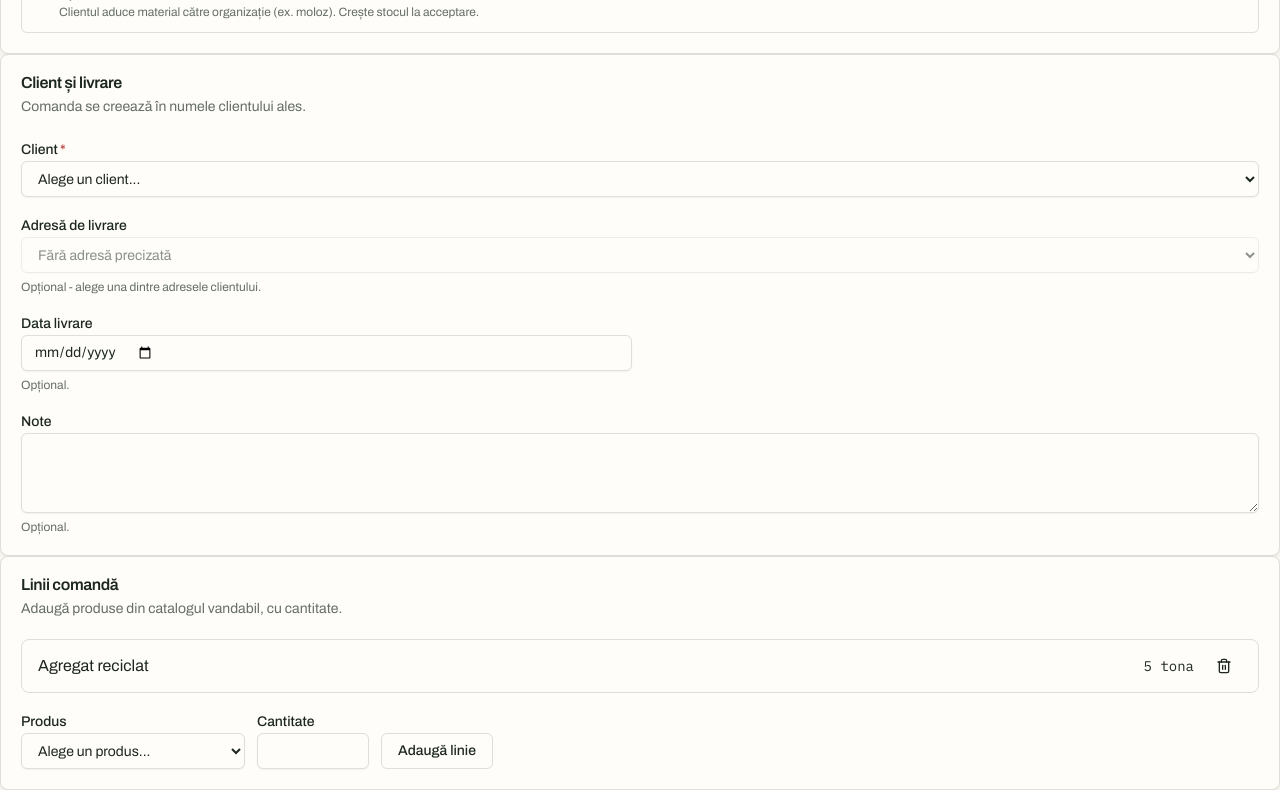
Test case: OrderEditor › șterge o linie existentă
The image size is (1280, 790).
(page scrolled)
Expected: the text "Agregat reciclat" is shown, [38,654,149,678]
Click the button named "Șterge linia": (1224, 666) [1206,648,1242,684]
(page scrolled)
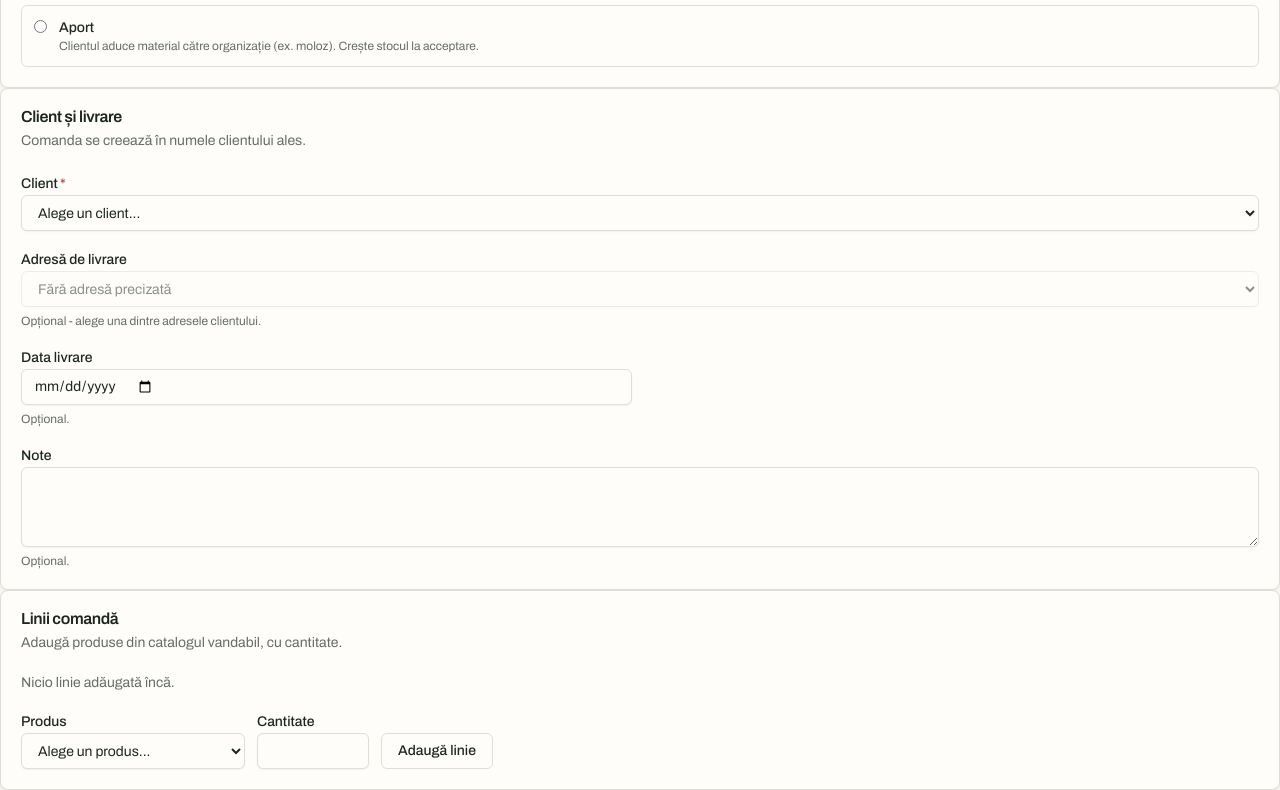
Result: the text "Nicio linie adăugată încă." is shown at [21,675,175,690]
